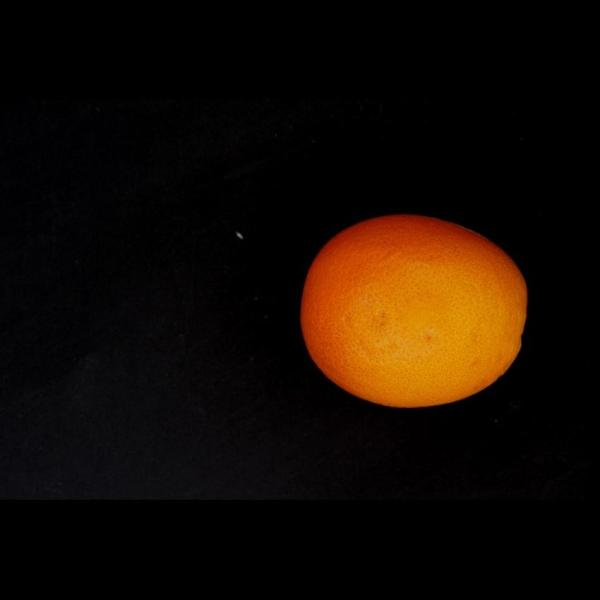Moho verde: (288, 203, 531, 423)
